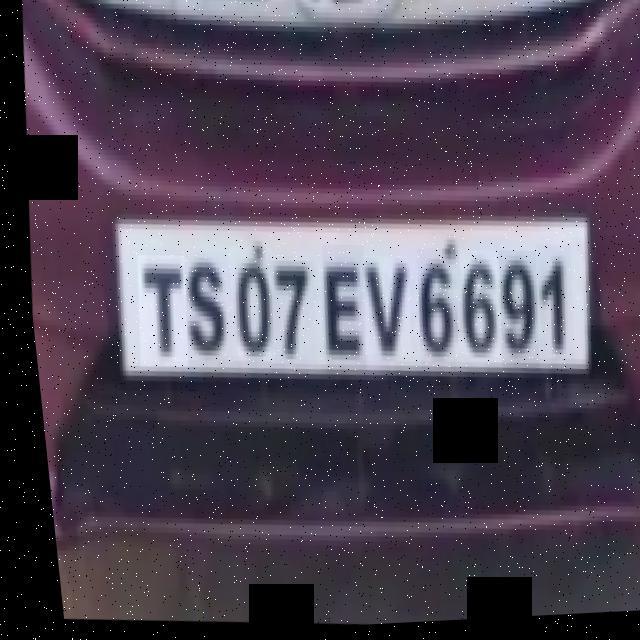0: (215, 247, 275, 368)
1: (522, 248, 574, 368)
6: (403, 251, 457, 376), (445, 253, 500, 372)
7: (254, 260, 316, 372)
9: (484, 254, 539, 378)
E: (307, 246, 367, 376)
S: (169, 250, 230, 369)
T: (123, 254, 187, 371)
V: (348, 258, 410, 361)
